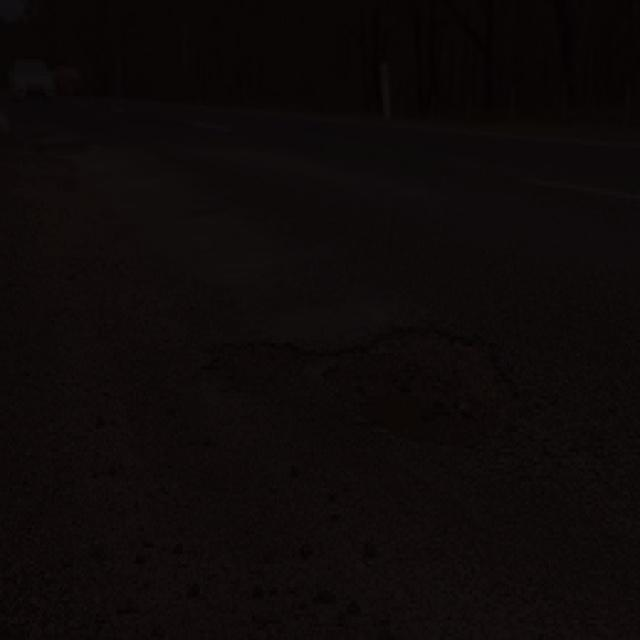Pothole: (200, 317, 542, 469)
